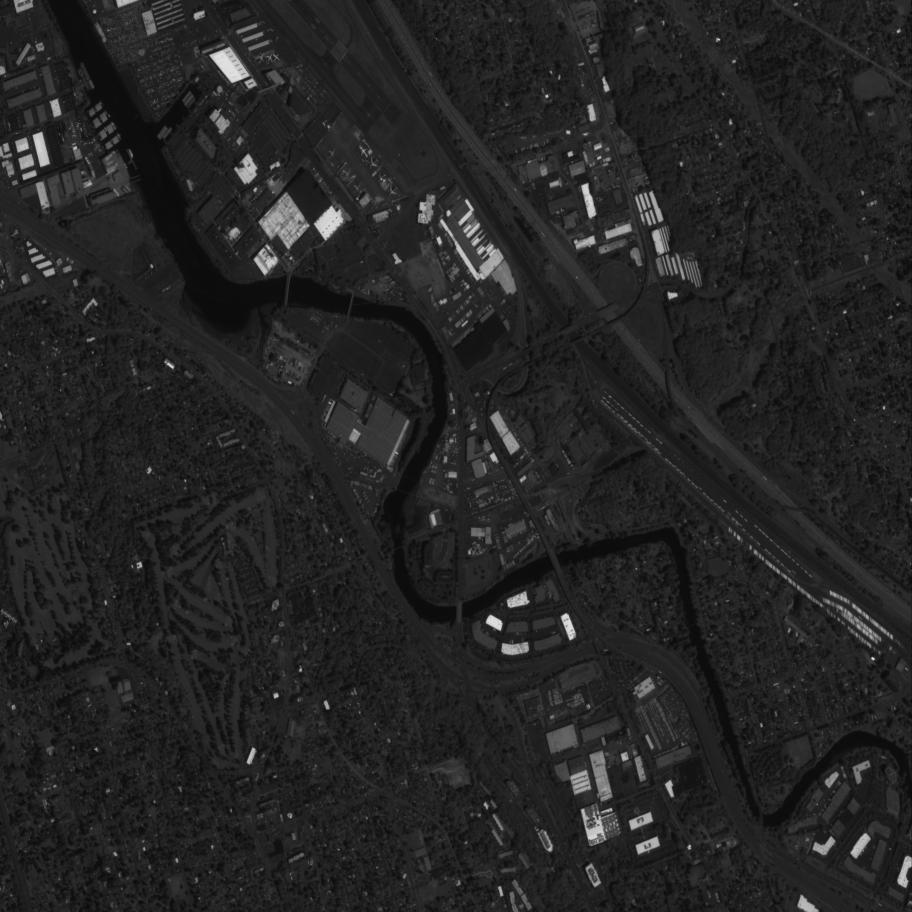plane: (355, 143, 374, 162), (364, 154, 383, 172), (384, 182, 401, 200), (374, 171, 389, 186), (263, 51, 277, 65), (339, 167, 353, 181), (325, 146, 338, 161), (270, 50, 283, 64), (351, 182, 363, 195), (257, 51, 266, 63)
ship: (129, 148, 135, 158)
